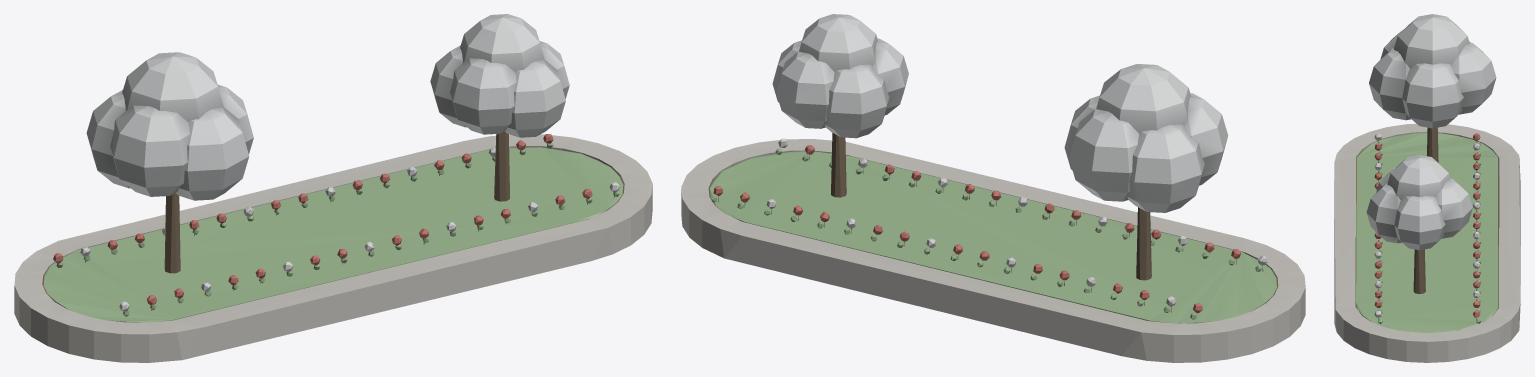
Rendered from plaza_garden_long_winter_low.glb.
3 renders of one model, left to right at view 1: azimuth 30°, elevation 25°; view 2: azimuth 150°, elevation 25°; view 3: azimuth 270°, elevation 25°, orthographic. The views are drawn at different scales.
Size of the model in its own units: 10 by 3.82 by 3.6.
